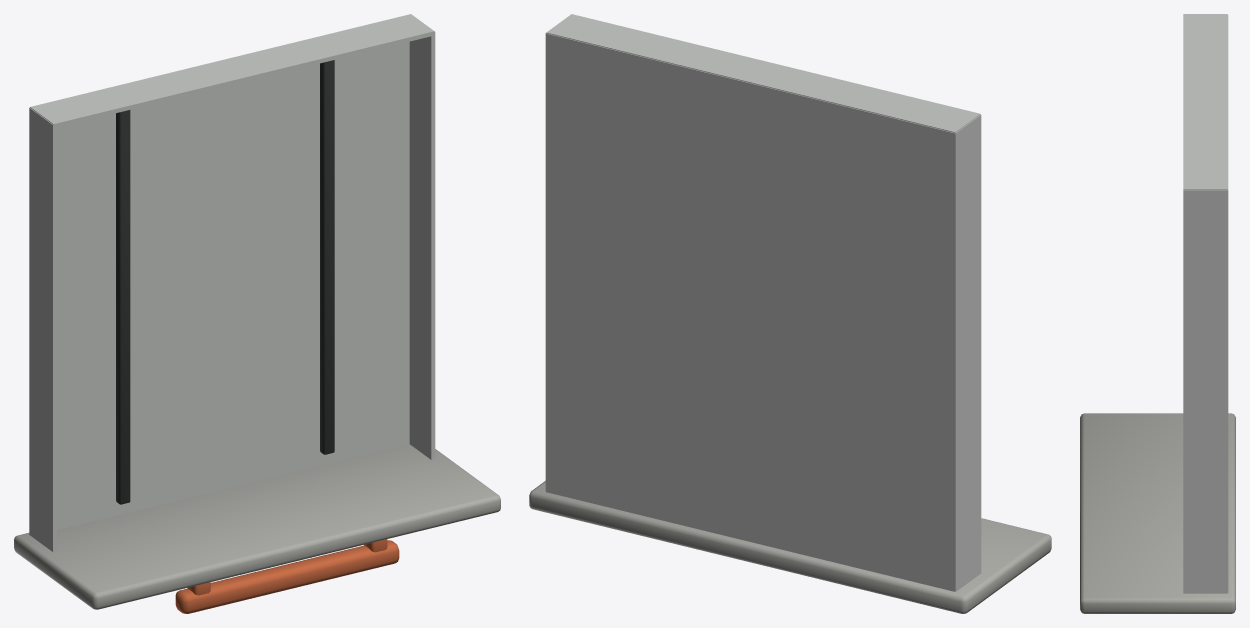
Rendered from benchtop_reflow_oven_drawer.glb.
The picture shows the model from 3 angles, left to right: view 1: azimuth 30°, elevation 25°; view 2: azimuth 150°, elevation 25°; view 3: azimuth 270°, elevation 25°; orthographic projection. The views are drawn at different scales.
Visible parts, largest first — view 1: benchtop_reflow_oven_drawer; view 2: benchtop_reflow_oven_drawer; view 3: benchtop_reflow_oven_drawer.
Part boxes in pixels (bbox=[...]): benchtop_reflow_oven_drawer: bbox=[14, 14, 500, 613]; benchtop_reflow_oven_drawer: bbox=[529, 14, 1051, 613]; benchtop_reflow_oven_drawer: bbox=[1080, 14, 1235, 613].
Size of the model in its own units: 0.3 by 0.3355 by 0.105.
